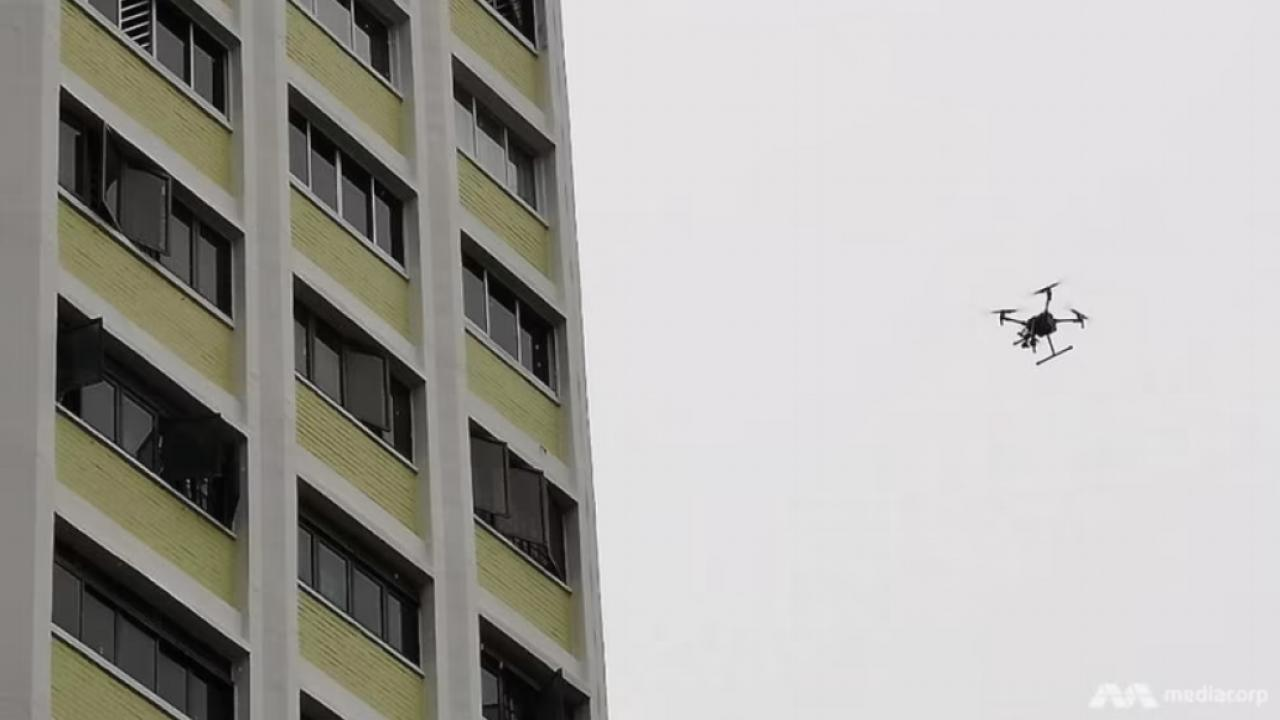Drone: (973, 269, 1109, 378)
